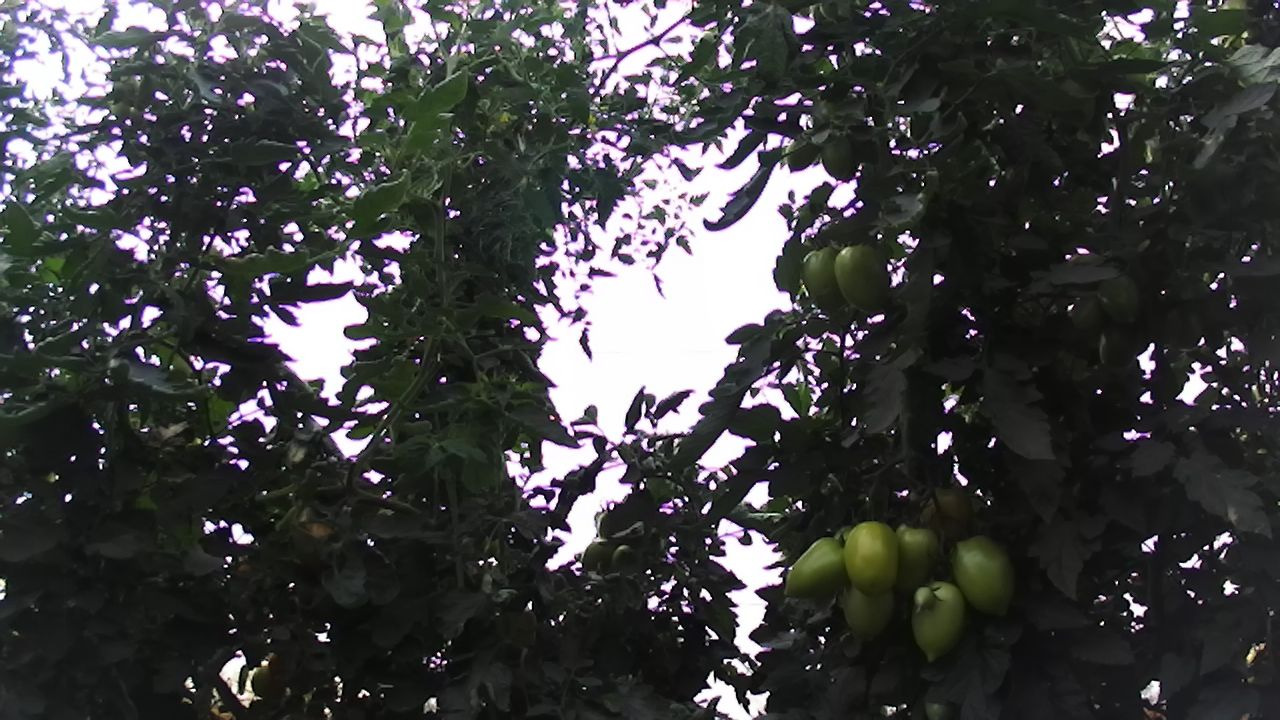tomato: (951, 531, 1020, 621), (837, 568, 906, 650), (912, 572, 971, 665), (840, 519, 903, 598), (776, 534, 848, 602), (890, 517, 943, 602), (831, 241, 892, 311), (799, 244, 847, 315), (1091, 269, 1145, 331), (1093, 319, 1142, 376), (815, 126, 859, 182), (910, 579, 939, 616)
